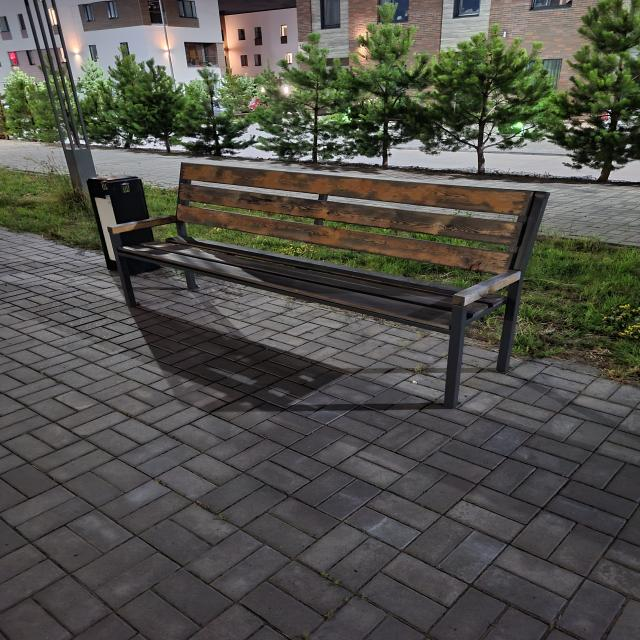Bench: (107, 162, 549, 409)
